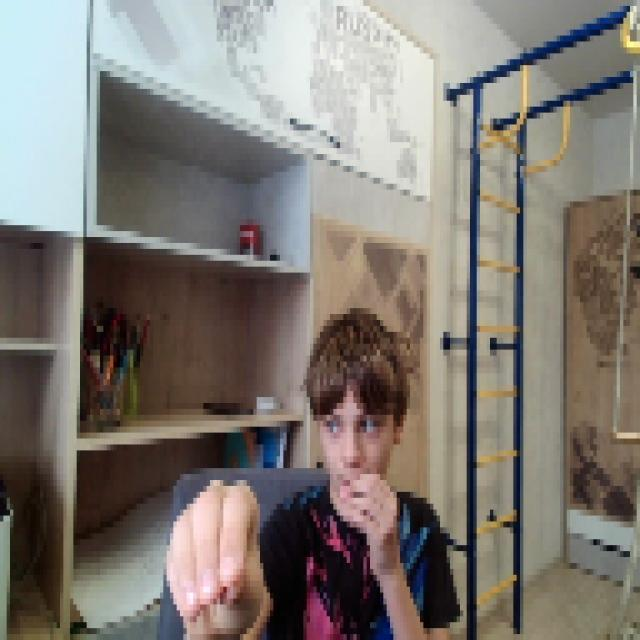left_click: (160, 468, 267, 634)
